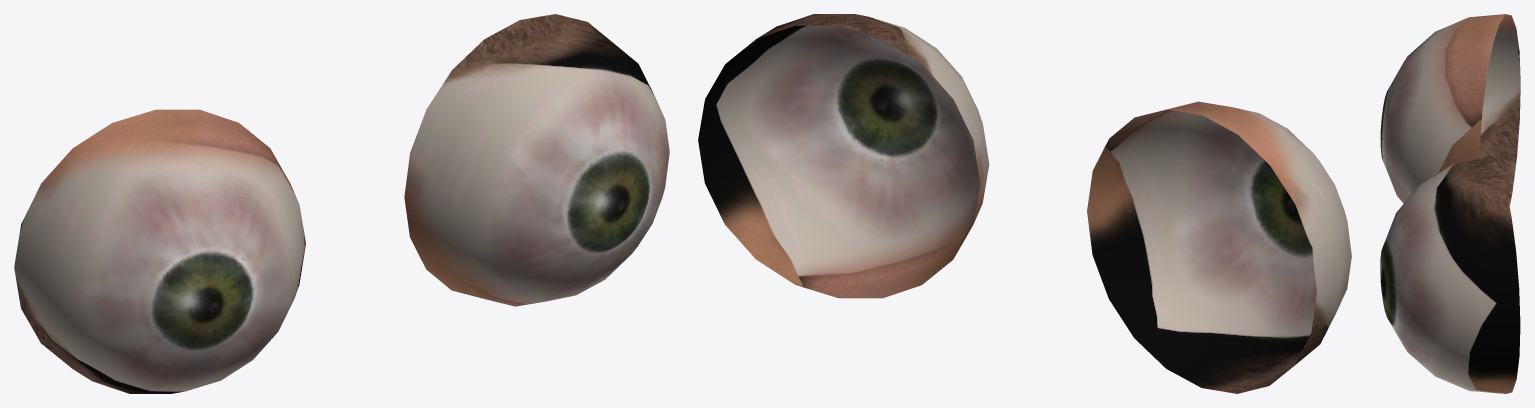
Rendered from EyesShape.obj.
3 renders of one model, left to right at view 1: azimuth 30°, elevation 25°; view 2: azimuth 150°, elevation 25°; view 3: azimuth 270°, elevation 25°, orthographic. The views are drawn at different scales.
Parts seen in each view (by area): view 1: Eyes Inner_Face_Parts Brad_Skin CharacterRoot; view 2: Eyes Inner_Face_Parts Brad_Skin CharacterRoot; view 3: Eyes Inner_Face_Parts Brad_Skin CharacterRoot.
Boxes of the visible parts, left/top/right/bottom form: Eyes Inner_Face_Parts Brad_Skin CharacterRoot: left=14, top=14, right=669, bottom=393; Eyes Inner_Face_Parts Brad_Skin CharacterRoot: left=698, top=14, right=1351, bottom=393; Eyes Inner_Face_Parts Brad_Skin CharacterRoot: left=1380, top=14, right=1520, bottom=393.
Size of the model in its own units: 9.71 by 4.08 by 2.37.
1 material, 1 textured.
